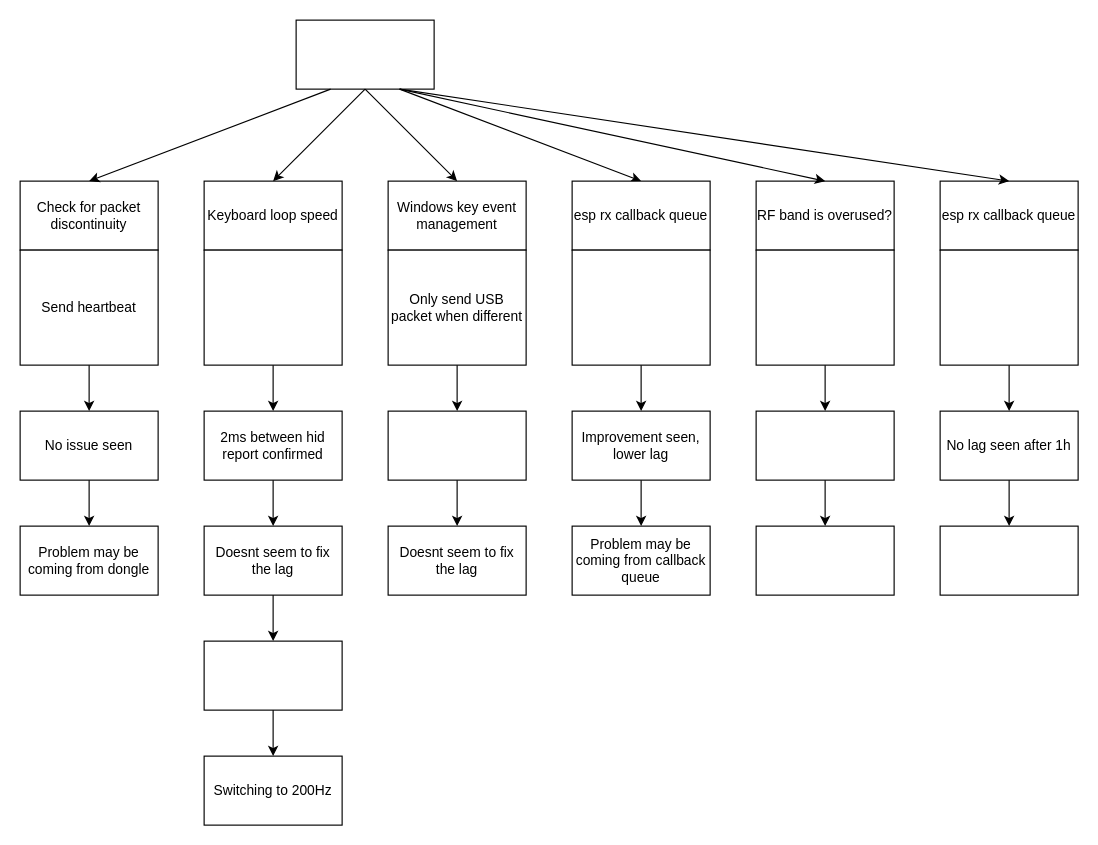
The diagram is 1098 pixels wide and 845 high, and some of its shapes have lost their labels. The shapes that lost their labels are listed below. From the top down, each one's centre as x and y in pixels, then its label:
At point (364, 54): "Latency".
At point (272, 307): "Increase frequency from 100Hz to 500Hz".
At point (640, 307): "Unregister call at beginning of callback".
At point (824, 307): "Make possible to select RF band via uart".
At point (1008, 307): "callback queue overflow send keyboard only when different".
At point (456, 445): "Same behaviour as Logitech keyboard".
At point (1008, 560): "Seems to be ok".
At point (272, 675): "Shows debounce problem because too fast sampling".
